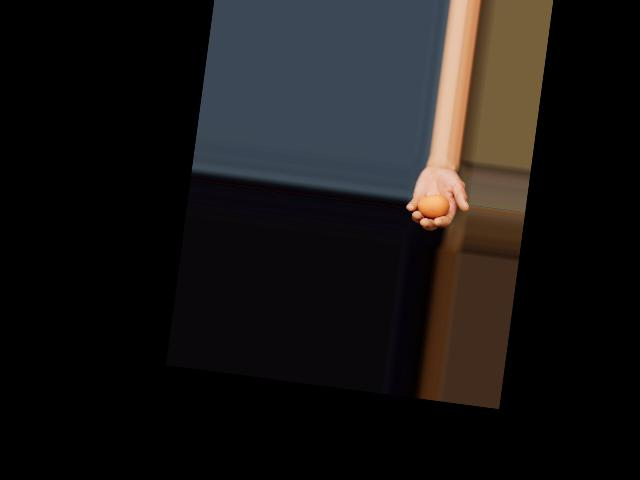egg: (415, 192, 450, 219)
